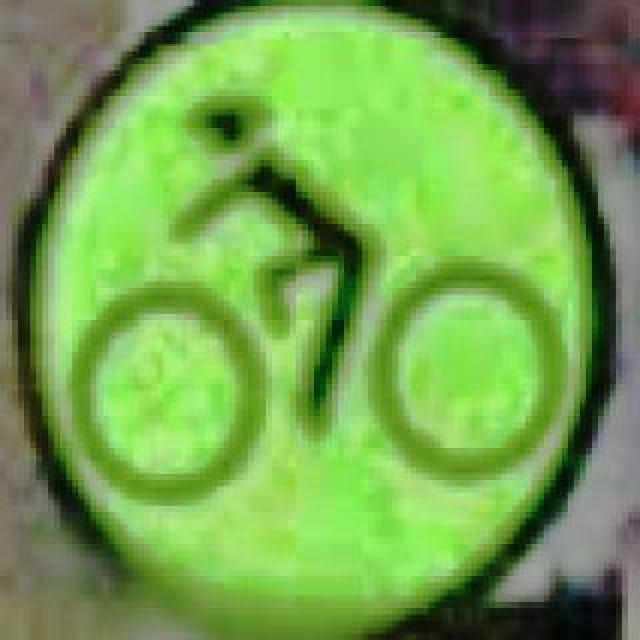bike lane: (30, 0, 590, 614)
